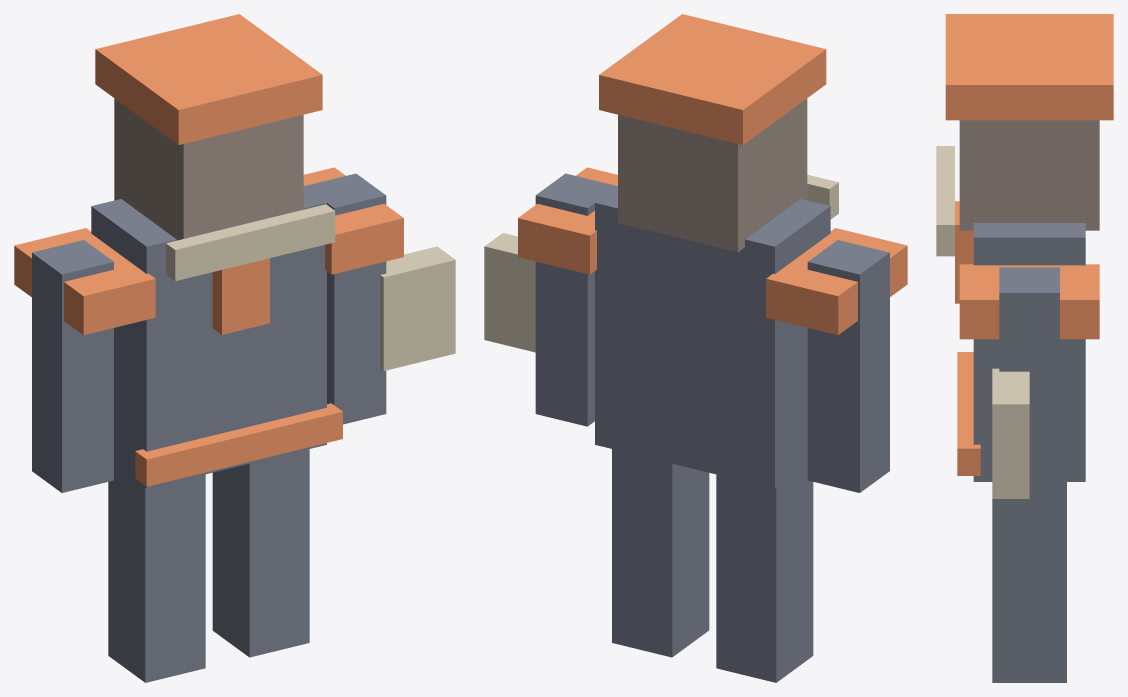
Rendered from 19_talia_chromabell_fixer_under_breach.glb.
3 views of the same model, side by side, from view 1: azimuth 30°, elevation 25°; view 2: azimuth 150°, elevation 25°; view 3: azimuth 270°, elevation 25° (orthographic).
Visible parts, largest first — view 1: Talia Chromabell, Fixer under Breach; view 2: Talia Chromabell, Fixer under Breach; view 3: Talia Chromabell, Fixer under Breach.
Part boxes in pixels (x1,y1,x2,y2): Talia Chromabell, Fixer under Breach: (14,14,455,682); Talia Chromabell, Fixer under Breach: (484,14,907,682); Talia Chromabell, Fixer under Breach: (936,14,1113,682).
Size of the model in its own units: 1.06 by 1.52 by 0.4127.
